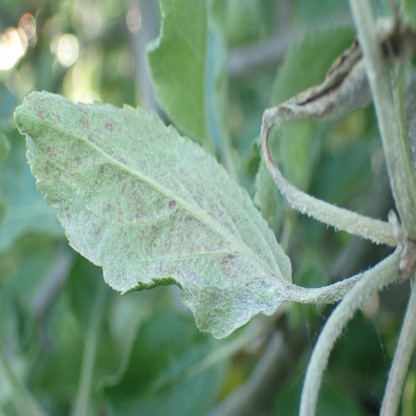powdery_mildew: (14, 90, 294, 336)
